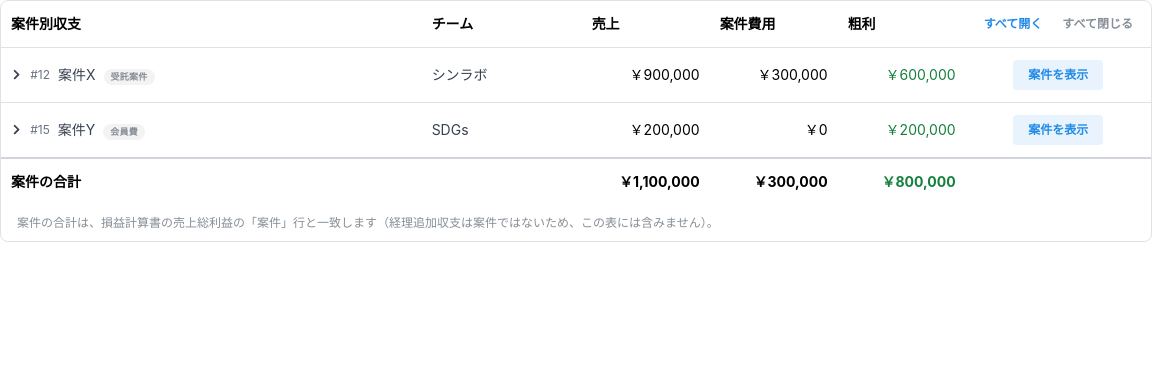
Scenario: MatterProfitTable › 実績額修正・タイトル変更の権限が無い場合は操作を表示しない（上書き後のタイトルは表示する）
This screenshot has width=1152, height=370.
Click the button "#12 案件X" at x=53, y=75, box top-left (11, 64), bottom-right (96, 86)
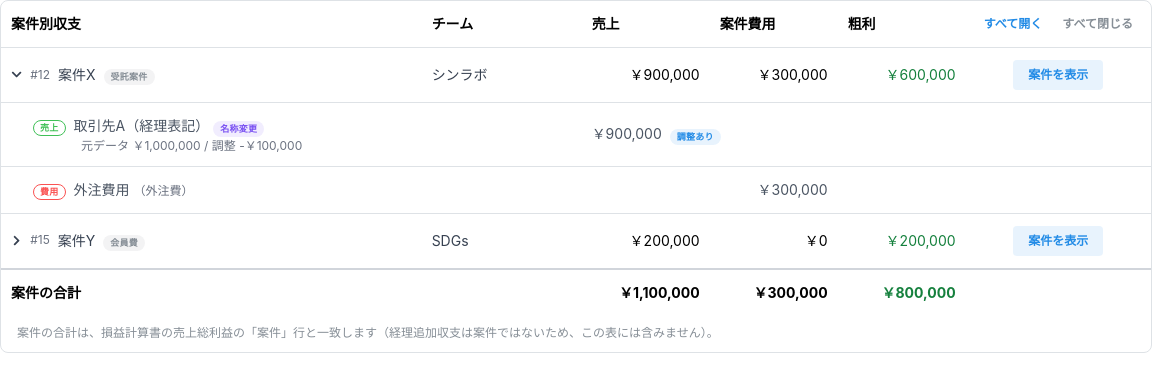
Expected: the text "取引先A（経理表記）" is shown, top-left (74, 117), bottom-right (209, 134)
